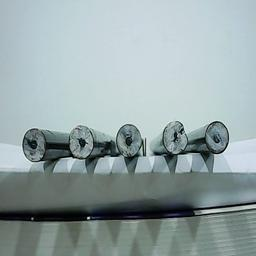pen: (20, 126, 48, 163), (203, 119, 231, 156), (162, 119, 190, 156), (114, 122, 142, 159), (67, 123, 95, 160)
